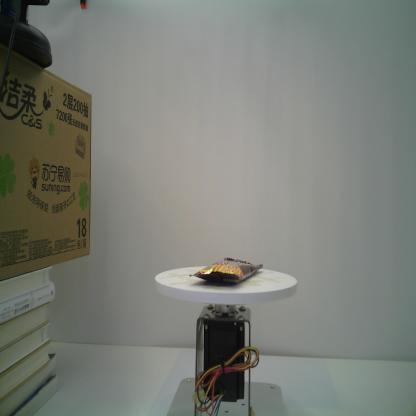Chocolate: (189, 256, 263, 285)
